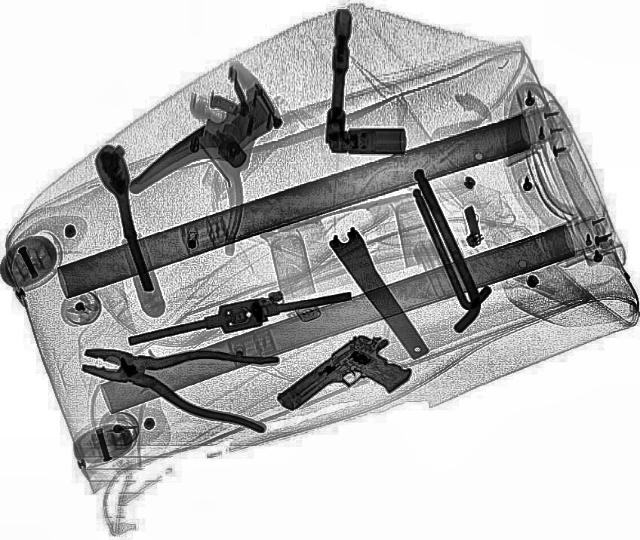Gun: (272, 323, 424, 439)
Pliers: (69, 322, 285, 432)
